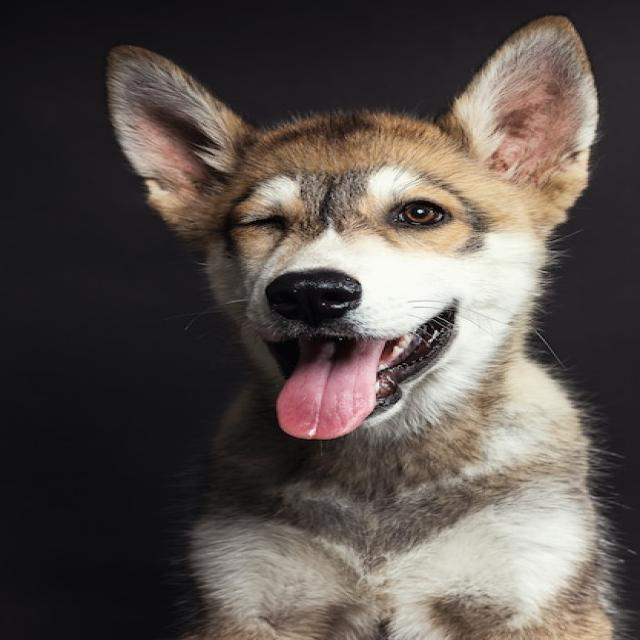Dog: (107, 13, 614, 640)
